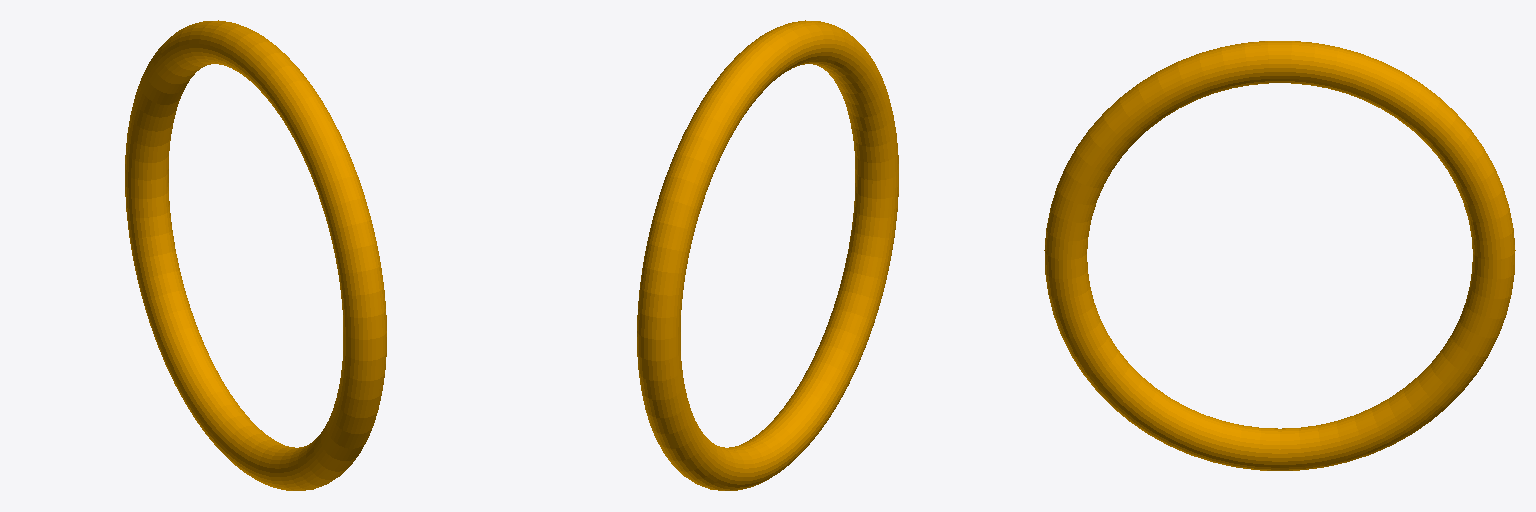
URDF robot description (torus):
<?xml version="1.0"?>
<robot name="torus">

  <!-- Tree (single link version - simpler) -->
  <link name="torus_link">
    <visual>
      <geometry>
	      <mesh filename="torus.obj"/>
      </geometry>
      <origin xyz="0 0 2" rpy="0 1.5708 0"/>
    </visual>
    <collision>
      <geometry>
        <mesh filename="torus.obj" scale="1 1 1"/>
      </geometry>
      <origin xyz="0 0 2" rpy="0 1.5708 0"/>
    </collision>
  </link>

</robot>

--- Facts derived from the render (not from the file) ---
Views: 3 orthographic renders of the robot side by side, from view 1: azimuth 30°, elevation 25°; view 2: azimuth 150°, elevation 25°; view 3: azimuth 270°, elevation 25°.
Model torus with 1 links and 0 joints (none), rooted at torus_link, posed every joint at zero.
Links seen in each view (by area): view 1: torus_link; view 2: torus_link; view 3: torus_link.
Link boxes in pixels (bbox=[...]): torus_link: bbox=[125, 20, 386, 490]; torus_link: bbox=[637, 20, 898, 490]; torus_link: bbox=[1044, 41, 1515, 470].
Bounding box of the posed robot: 0.3995 × 4.4 × 4.4 m (x, y, z).
Meshes: 1 distinct files referenced, 1 mesh visuals loaded (1 OBJ).